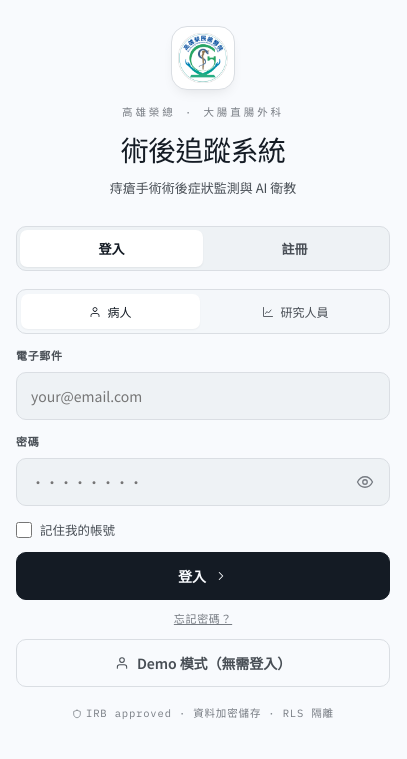
Test: Login Page › shows error message in Chinese on login failure
Type "test@test.com" into the field with placeholder "your@email.com" at (203, 396), box [16, 372, 390, 420]
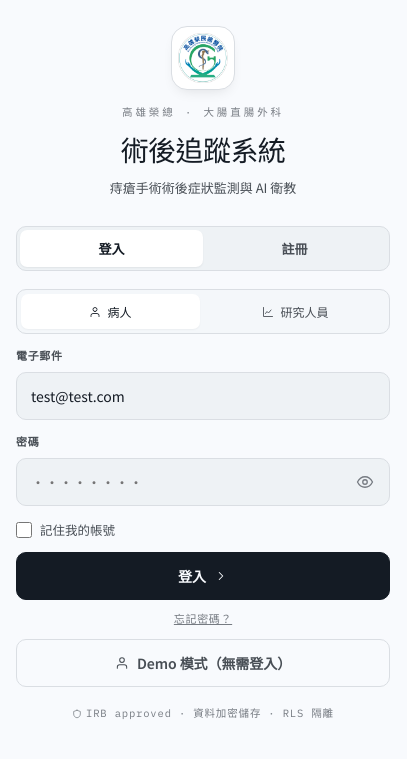
Type "wrong" into the password field with placeholder "••••••••" at (203, 482), box [16, 458, 390, 506]
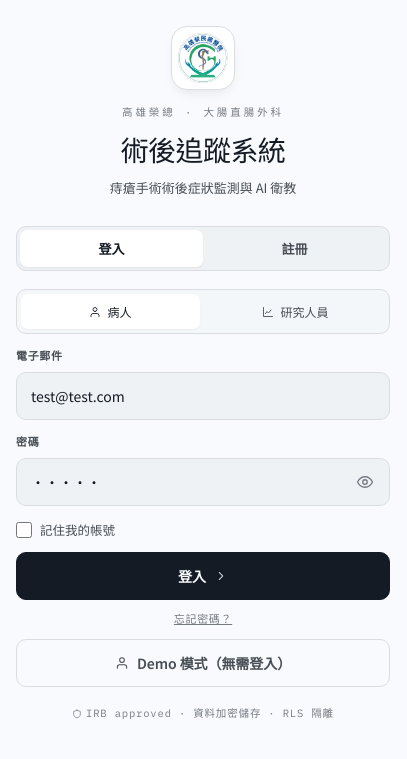
Submit the form from the submit button, box [16, 552, 390, 600]
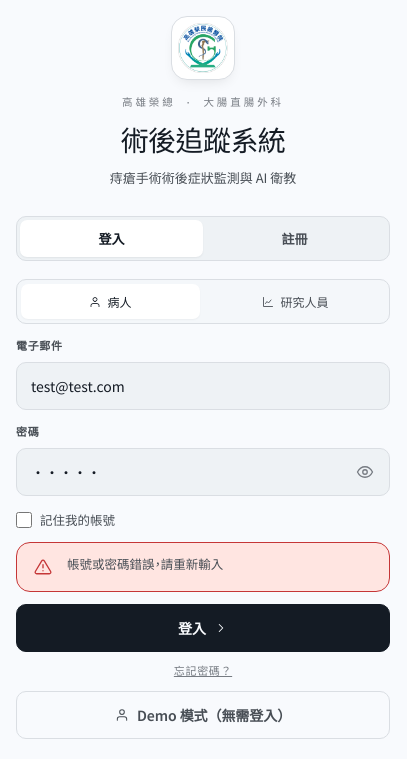
expect the text "帳號或密碼錯誤，請重新輸入" is shown: met, box [67, 555, 223, 573]
